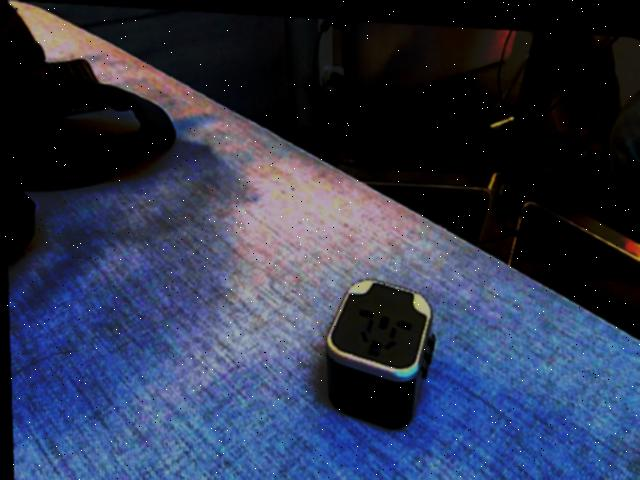adapter: (320, 272, 435, 426)
